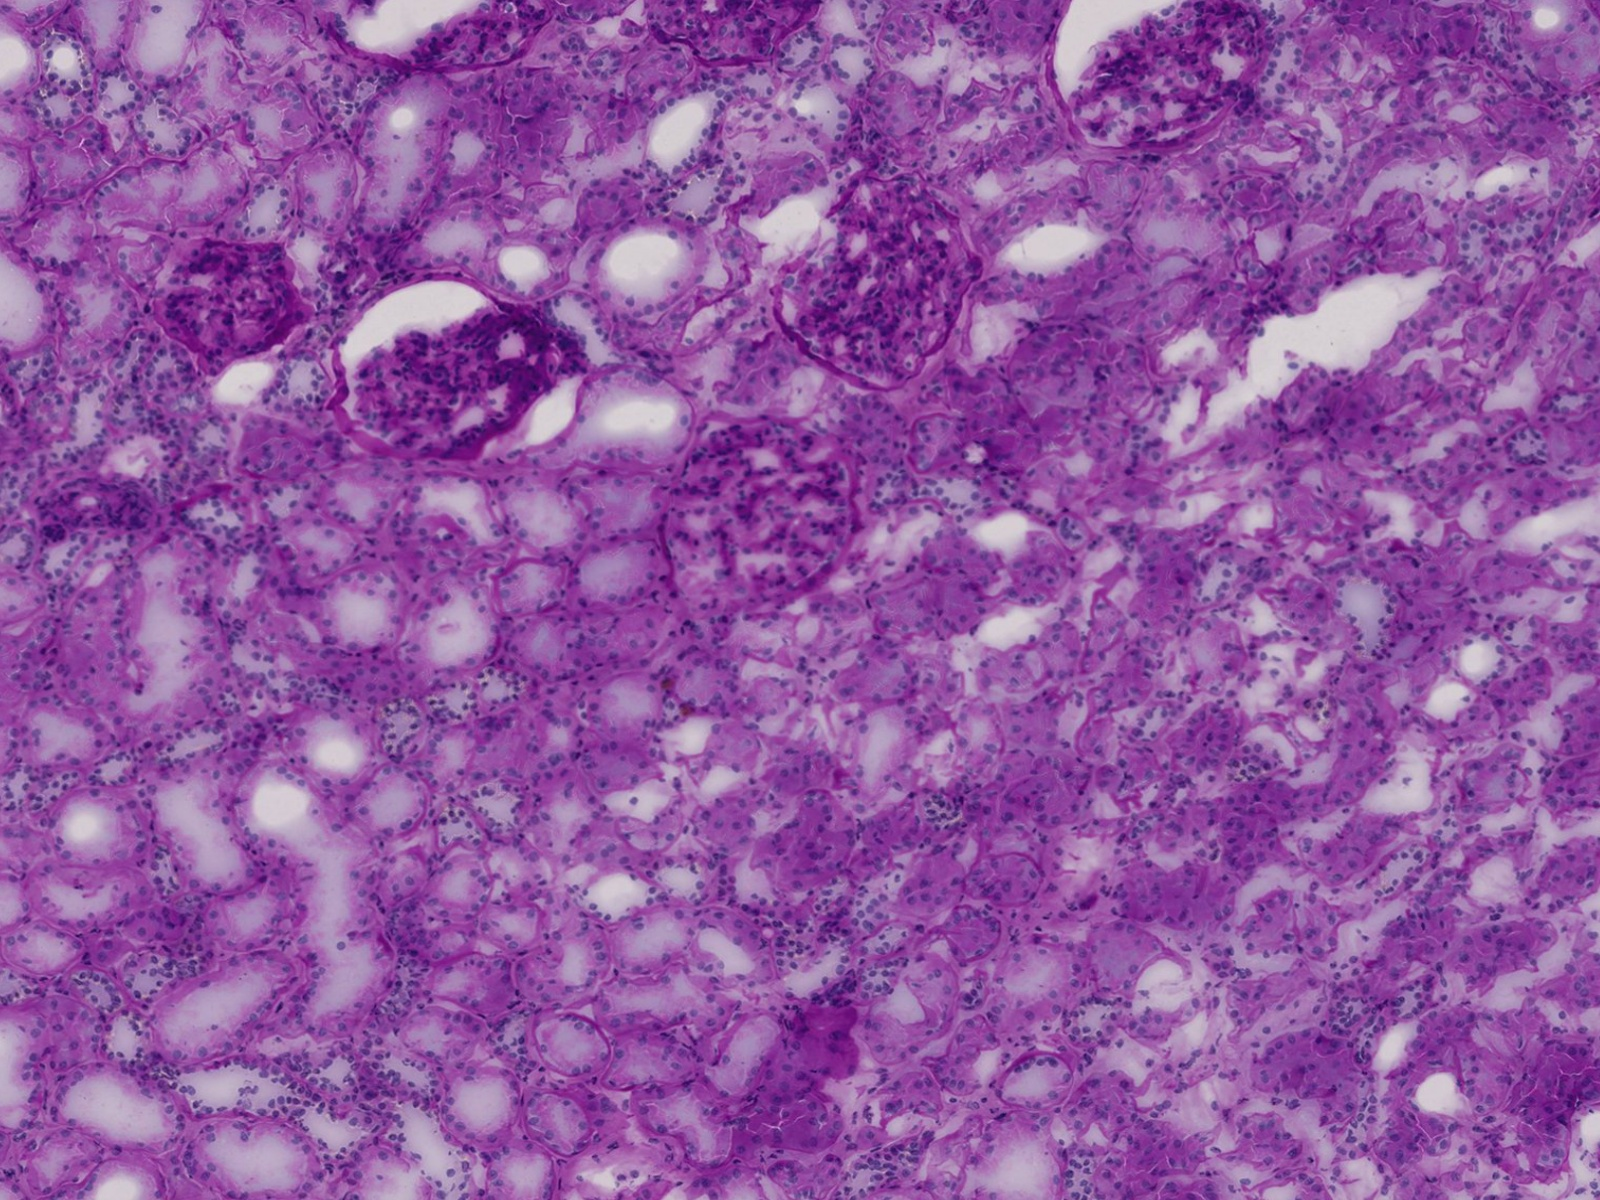Glomeruli: (771, 161, 991, 395), (330, 274, 590, 464), (654, 413, 857, 626), (1044, 3, 1283, 153), (160, 234, 321, 382), (333, 5, 559, 71), (643, 3, 821, 67)
